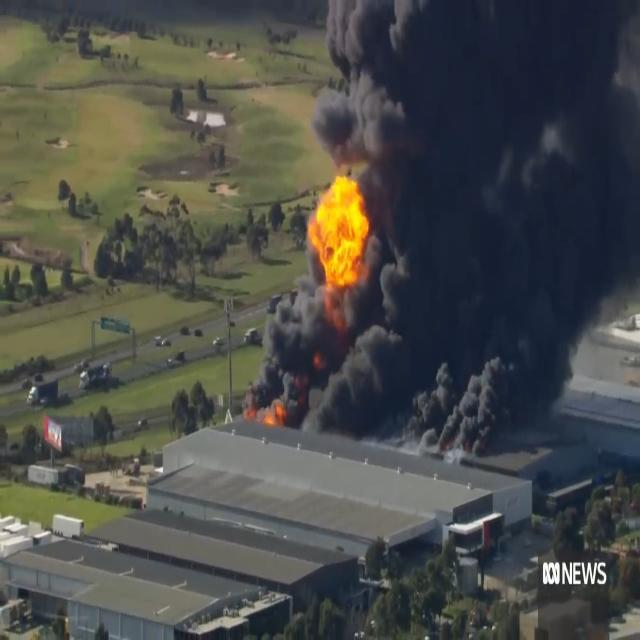fire: (307, 168, 378, 340)
